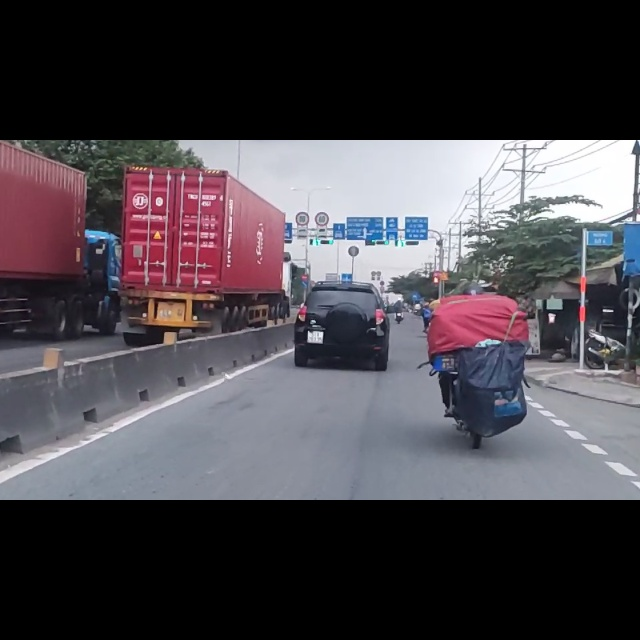bien_hieu_lenh: (314, 127, 330, 155), (296, 128, 310, 153), (301, 238, 308, 250), (301, 251, 307, 262)
